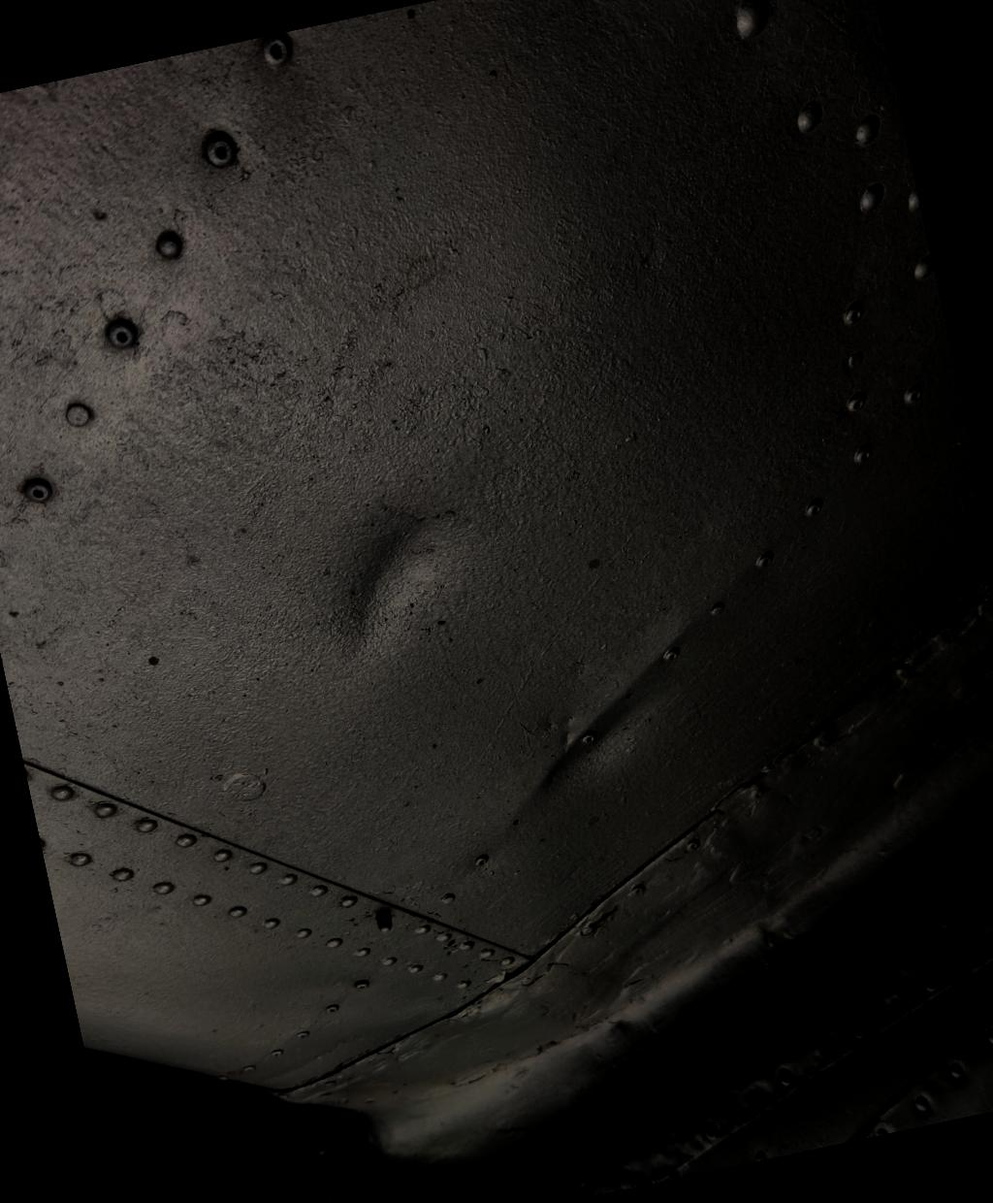dent: (250, 403, 528, 702), (479, 604, 713, 862)
